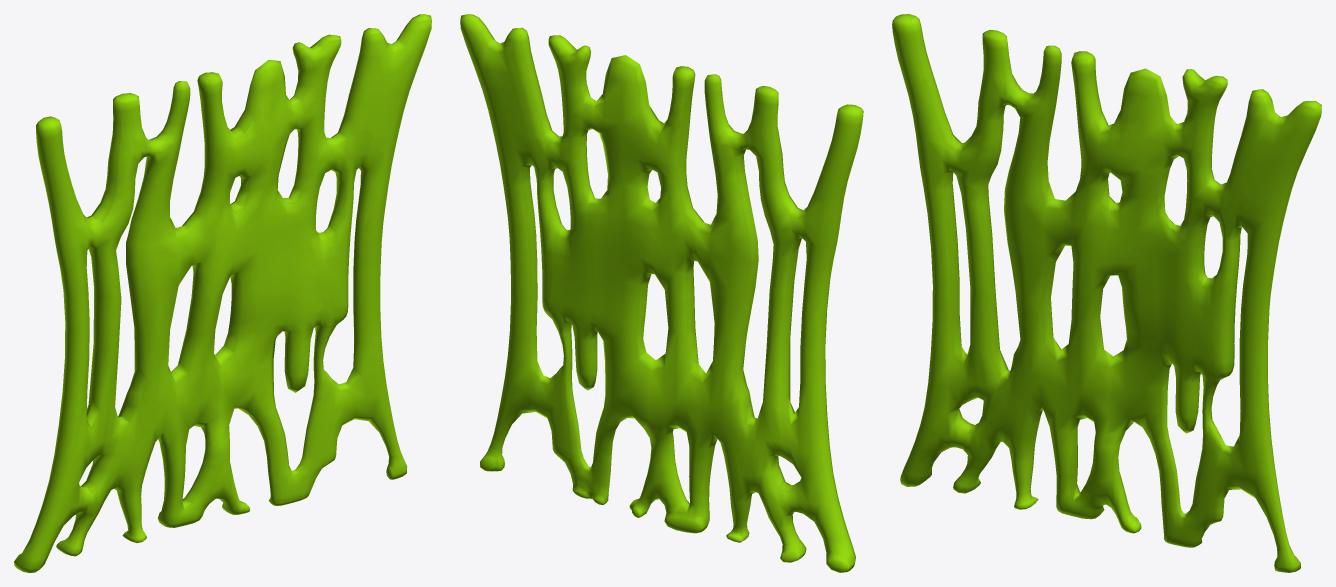
File: ChuChu Goo.fbx
3 views of the same model, side by side, from view 1: azimuth 30°, elevation 25°; view 2: azimuth 150°, elevation 25°; view 3: azimuth 330°, elevation 25° (orthographic). The views are drawn at different scales.
Visible parts, largest first — view 1: Cube.044; view 2: Cube.044; view 3: Cube.044.
Part boxes in pixels (x1,y1,x2,y2): Cube.044: (14, 14, 431, 572); Cube.044: (460, 14, 863, 572); Cube.044: (892, 14, 1321, 572).
Size of the model in its own units: 424 by 465 by 57.43.
1 material, 1 textured.
